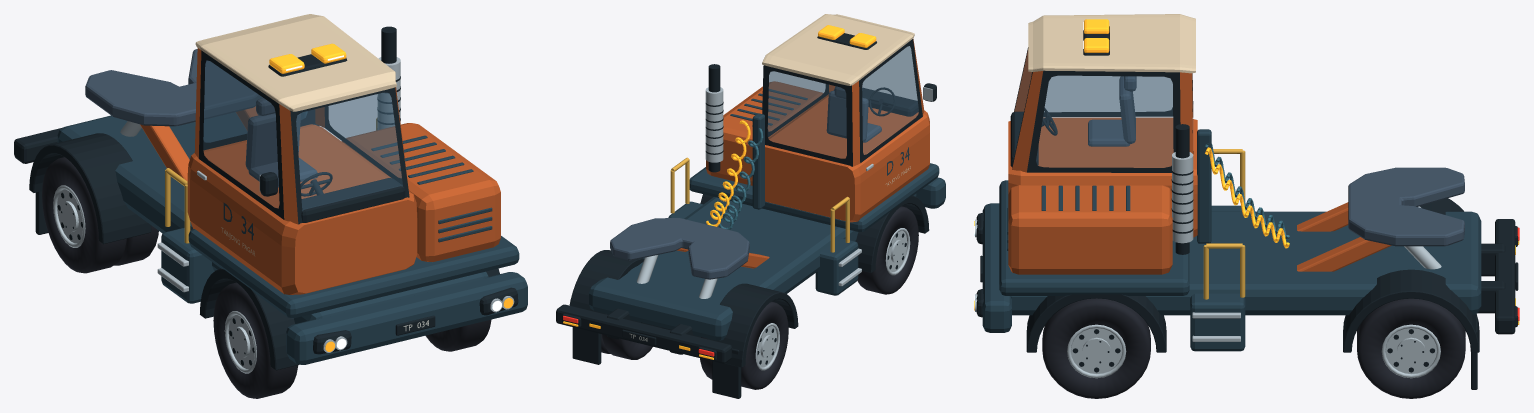
The picture shows the model from 3 angles, left to right: view 1: azimuth 30°, elevation 25°; view 2: azimuth 150°, elevation 25°; view 3: azimuth 270°, elevation 25°; orthographic projection. The views are drawn at different scales.
Parts seen in each view (by area): view 1: Tanjong Pagar Dock Mule; view 2: Tanjong Pagar Dock Mule; view 3: Tanjong Pagar Dock Mule.
Part boxes in pixels (left/top/right/bottom): Tanjong Pagar Dock Mule: left=14, top=14, right=527, bottom=398; Tanjong Pagar Dock Mule: left=556, top=14, right=945, bottom=398; Tanjong Pagar Dock Mule: left=974, top=14, right=1519, bottom=398.
Size of the model in its own units: 2.49 by 3.17 by 5.27.
